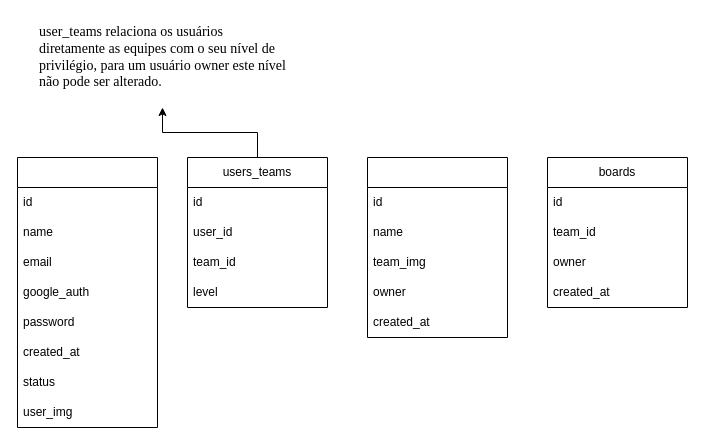
Image size: 705x445. Some labels were removed from this diagram. The box of each missing label's shape, as (x1, y1, x2, y2) in pixels:
teams: (366, 156, 508, 338)
users: (16, 156, 158, 428)
